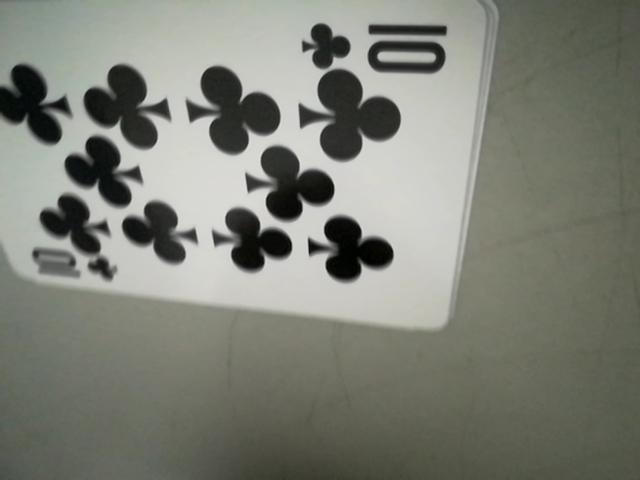mh 10: (300, 13, 458, 75), (25, 242, 120, 289)
